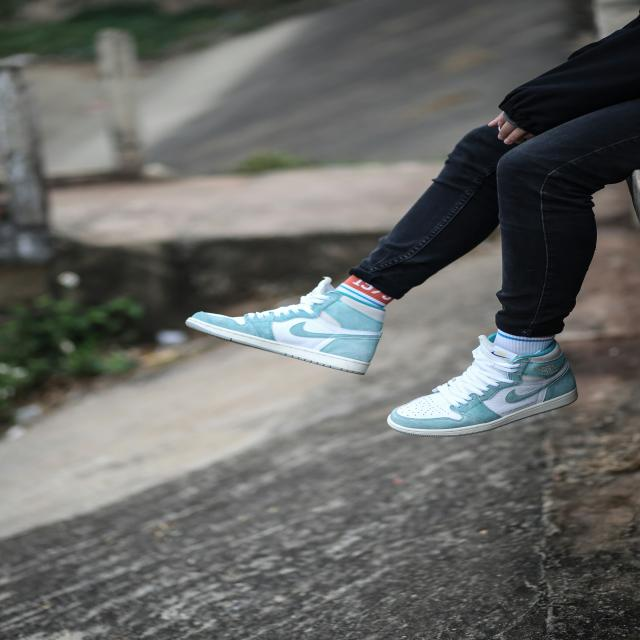nike: (282, 311, 386, 355), (488, 376, 584, 408)
